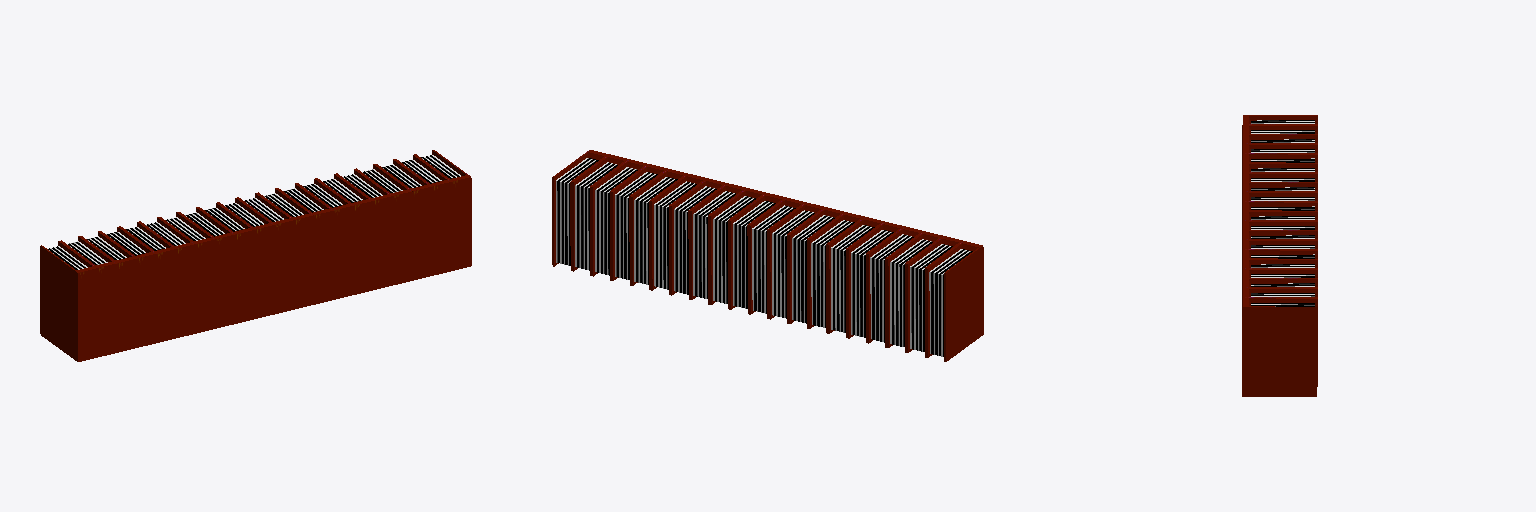
3 views of the same model, side by side, from view 1: azimuth 30°, elevation 25°; view 2: azimuth 150°, elevation 25°; view 3: azimuth 270°, elevation 25° (orthographic).
Parts seen in each view (by area): view 1: Mediano.052; view 2: Mediano.052; view 3: Mediano.052.
Boxes of the visible parts, x1,y1,x2,y2 form: Mediano.052: [40, 150, 471, 361]; Mediano.052: [552, 150, 983, 361]; Mediano.052: [1242, 115, 1317, 396].
Bounding box in the file's own units: 8.43 × 1.84 × 1.4.
Materials: 1 (1 with a texture image).